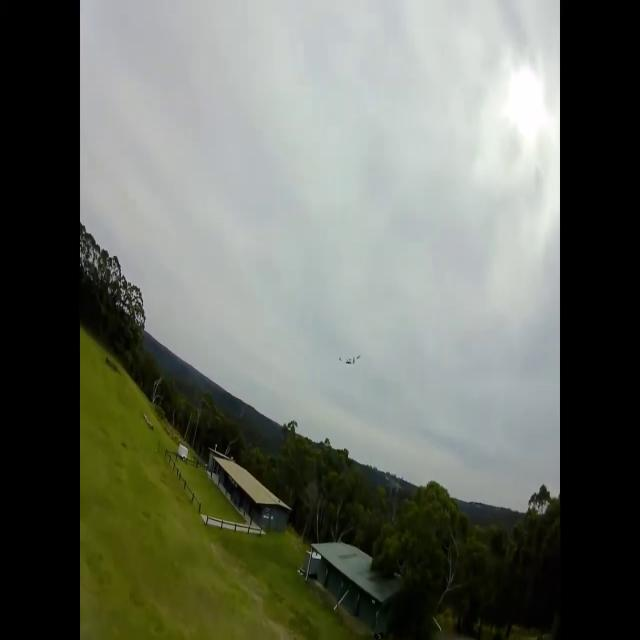iha: (339, 358, 362, 360)
